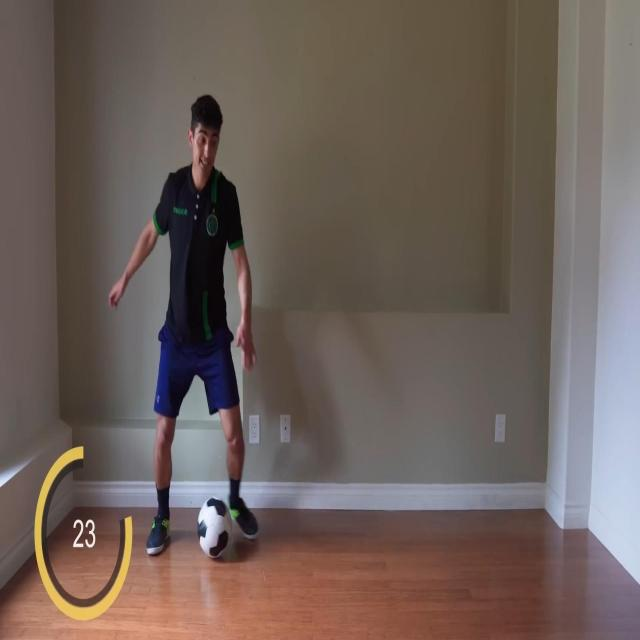Soccer Ball: (197, 496, 232, 559)
